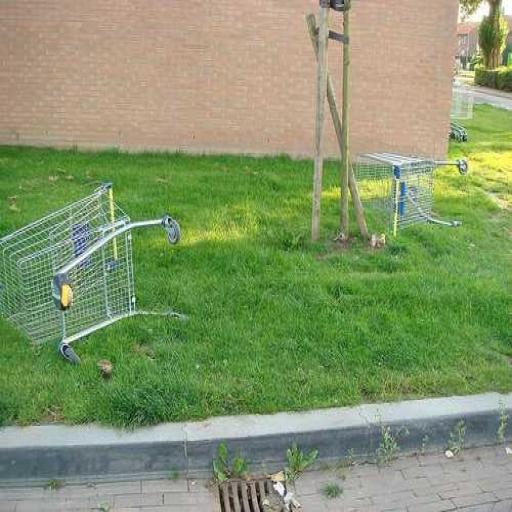shopping_cart: (0, 177, 191, 367), (354, 149, 471, 240)
